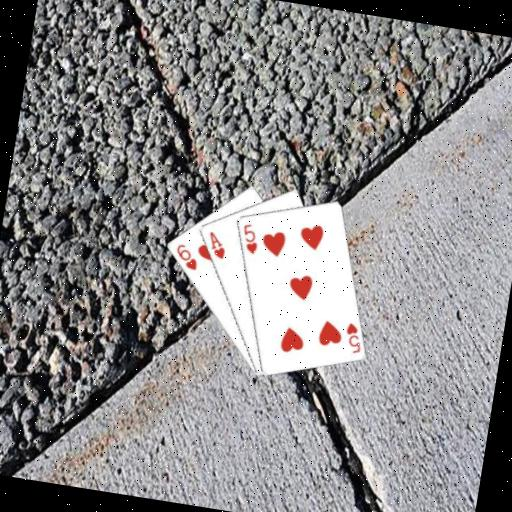5H: (339, 318, 366, 355), (236, 219, 261, 255)
6H: (170, 240, 201, 272)
AH: (202, 228, 229, 261)
